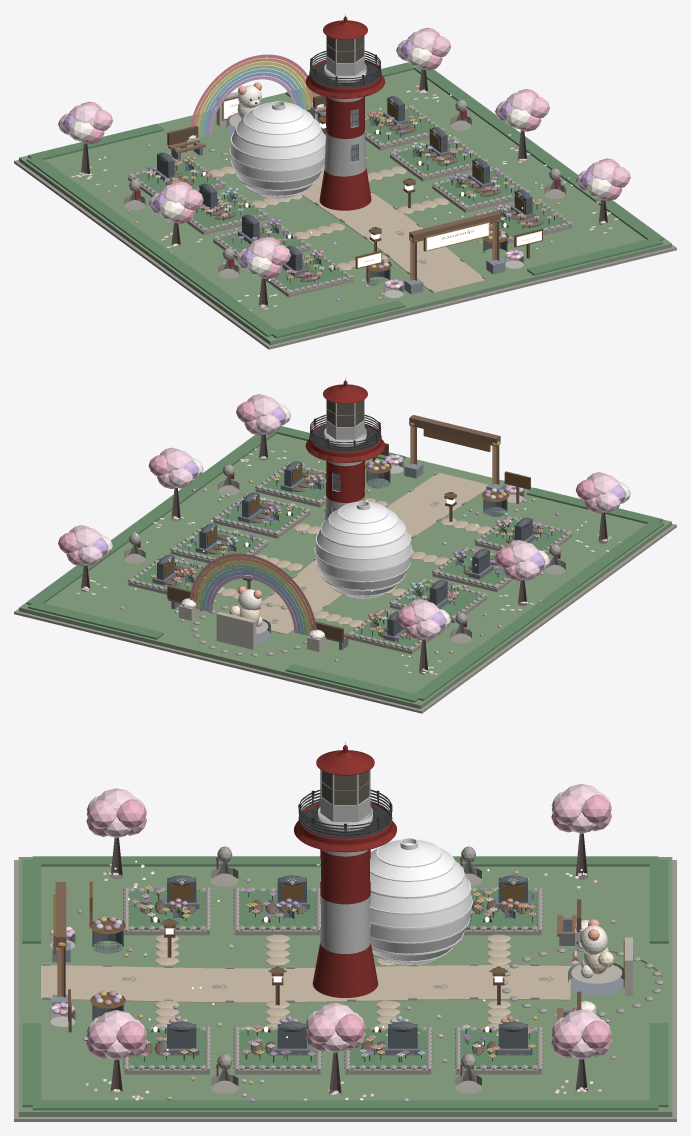
3 views of the same model, one above another, from view 1: azimuth 30°, elevation 25°; view 2: azimuth 150°, elevation 25°; view 3: azimuth 270°, elevation 25° (orthographic). The views are drawn at different scales.
Visible parts, largest first — view 1: BASE_9fbe99, GATE_FOUNDATION_929ba3, Lighthouse, lamp_rice, SIGN_RAINBOW_GARDEN; view 2: BASE_9fbe99, GATE_FOUNDATION_929ba3, lamp_rice, Lighthouse; view 3: BASE_9fbe99, GATE_FOUNDATION_929ba3, Lighthouse, lamp_rice.
Part boxes in pixels (x1=…): BASE_9fbe99: x1=14, y1=62, x2=676, y2=349; GATE_FOUNDATION_929ba3: x1=58, y1=27, x2=630, y2=310; Lighthouse: x1=305, y1=14, x2=385, y2=210; lamp_rice: x1=229, y1=101, x2=325, y2=198; SIGN_RAINBOW_GARDEN: x1=426, y1=223, x2=489, y2=250; BASE_9fbe99: x1=14, y1=426, x2=676, y2=713; GATE_FOUNDATION_929ba3: x1=58, y1=394, x2=630, y2=674; lamp_rice: x1=314, y1=501, x2=412, y2=598; Lighthouse: x1=305, y1=378, x2=385, y2=520; BASE_9fbe99: x1=14, y1=846, x2=676, y2=1121; GATE_FOUNDATION_929ba3: x1=50, y1=783, x2=632, y2=1100; Lighthouse: x1=294, y1=742, x2=396, y2=997; lamp_rice: x1=370, y1=838, x2=472, y2=965.
Size of the model in its own units: 24.38 by 12.3 by 26.38.
Materials: 19 (9 with a texture image).
